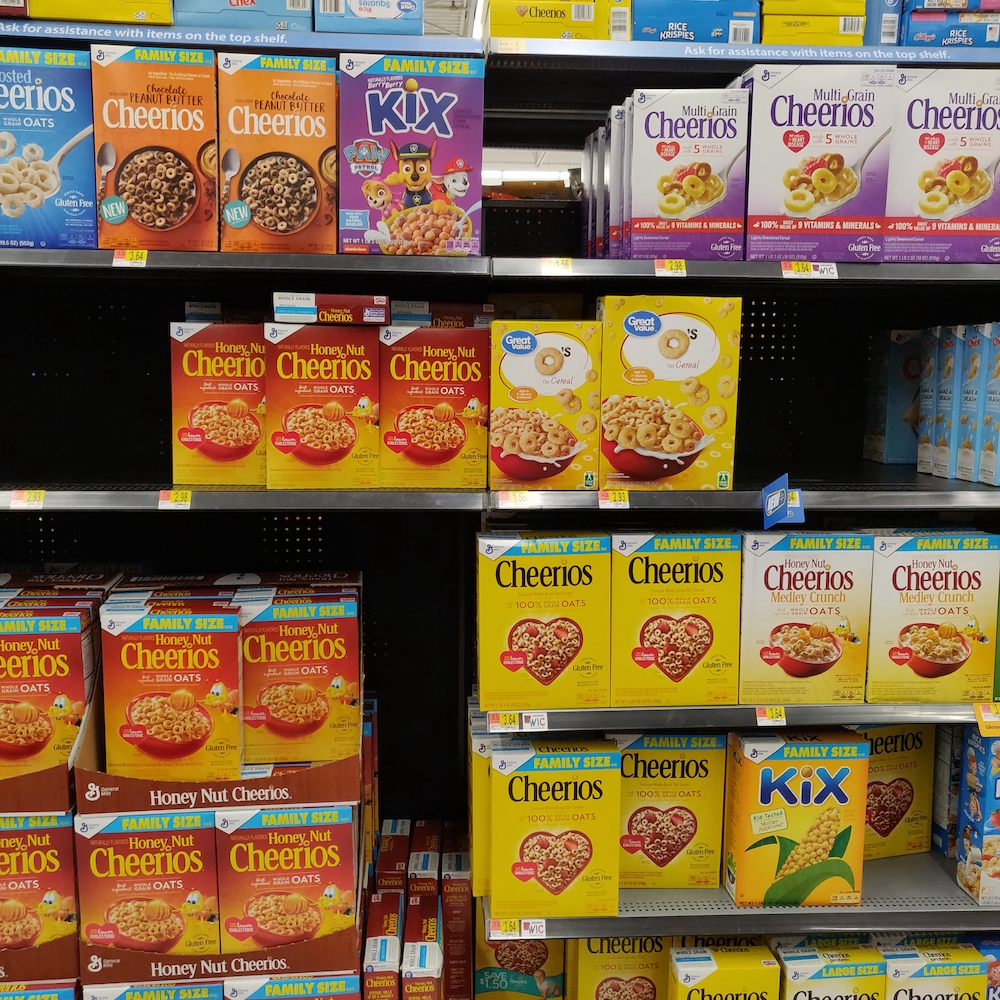Kix Berry -568919964: (341, 60, 487, 259)
Kix Crispy Corn-550051312: (726, 741, 874, 911)
